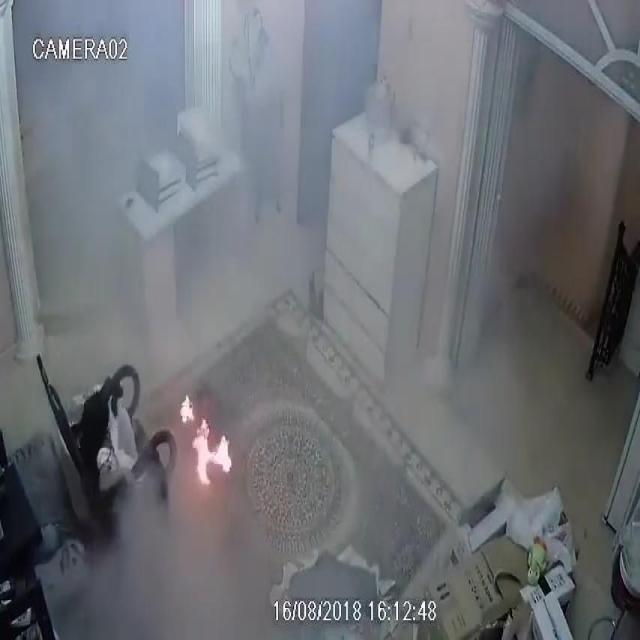fire: (193, 418, 231, 486), (180, 395, 194, 423)
